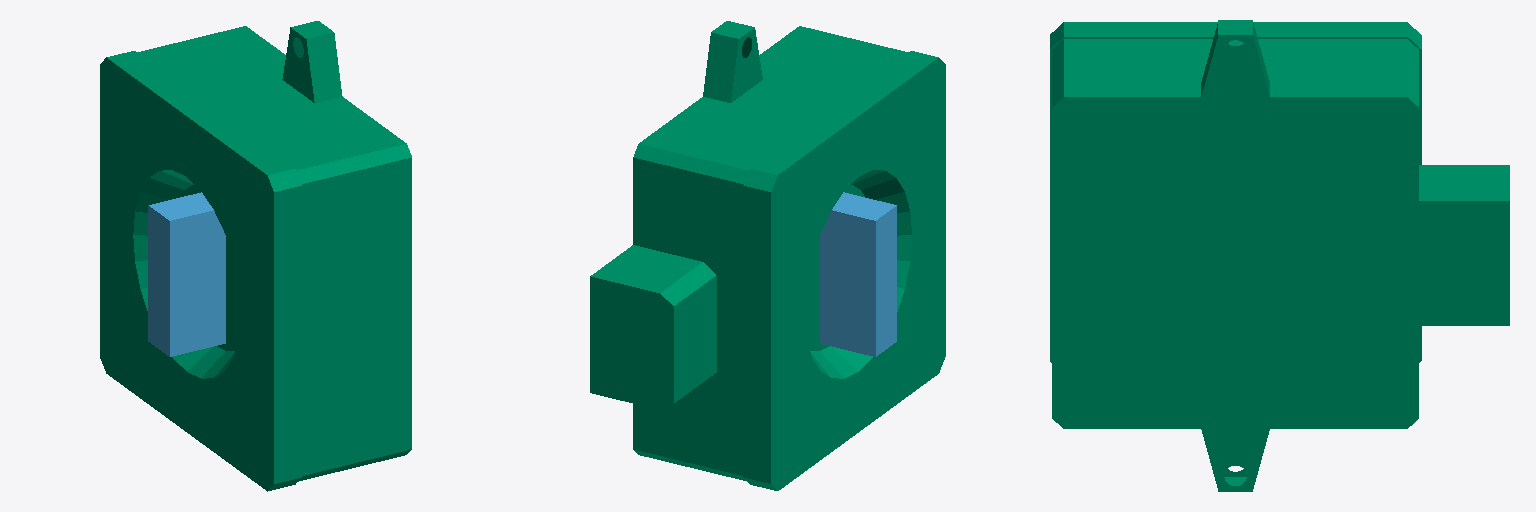
The robot description file, URDF, robot "partnet_251f4c140c41f05d25975e984b0e050b":
<?xml version="1.0" ?>
<robot name="partnet_251f4c140c41f05d25975e984b0e050b">
	<link name="base"/>
	<link name="link_0">
		<visual name="switch-1">
			<origin xyz="-0.04026600031718474 -0.0025320589489936903 0"/>
			<geometry>
				<mesh filename="textured_objs/original-4.obj"/>
			</geometry>
		</visual>
		<collision>
			<origin xyz="-0.04026600031718474 -0.0025320589489936903 0"/>
			<geometry>
				<mesh filename="textured_objs/original-4.obj"/>
			</geometry>
		</collision>
	</link>
	<joint name="joint_0" type="continuous">
		<origin xyz="0.04026600031718474 0.0025320589489936903 0"/>
		<axis xyz="0 0 1"/>
		<child link="link_0"/>
		<parent link="link_1"/>
	</joint>
	<link name="link_1">
		<visual name="base_body-2">
			<origin xyz="0 0 0"/>
			<geometry>
				<mesh filename="textured_objs/original-3.obj"/>
			</geometry>
		</visual>
		<visual name="base_body-2">
			<origin xyz="0 0 0"/>
			<geometry>
				<mesh filename="textured_objs/original-2.obj"/>
			</geometry>
		</visual>
		<collision>
			<origin xyz="0 0 0"/>
			<geometry>
				<mesh filename="textured_objs/original-3.obj"/>
			</geometry>
		</collision>
		<collision>
			<origin xyz="0 0 0"/>
			<geometry>
				<mesh filename="textured_objs/original-2.obj"/>
			</geometry>
		</collision>
	</link>
	<joint name="joint_1" type="fixed">
		<origin rpy="1.570796326794897 0 -1.570796326794897" xyz="0 0 0"/>
		<child link="link_1"/>
		<parent link="base"/>
	</joint>
</robot>

--- Render facts (derived) ---
The picture shows the robot from 3 angles, left to right: view 1: azimuth 30°, elevation 25°; view 2: azimuth 150°, elevation 25°; view 3: azimuth 270°, elevation 25°; orthographic projection.
Model partnet_251f4c140c41f05d25975e984b0e050b with 3 links and 2 joints (1 continuous, 1 fixed), rooted at base, posed every joint at zero.
Visible links, largest first — view 1: link_1, link_0; view 2: link_1, link_0; view 3: link_1.
Boxes of the visible links, x1,y1,x2,y2 form: link_1: (100, 21, 411, 491); link_0: (148, 192, 225, 356); link_1: (590, 21, 945, 490); link_0: (820, 192, 896, 356); link_1: (1050, 20, 1509, 491).
Bounding box of the posed robot: 0.7287 × 1.63 × 1.78 m (x, y, z).
3 mesh visuals loaded from 3 distinct referenced files (3 OBJ).
